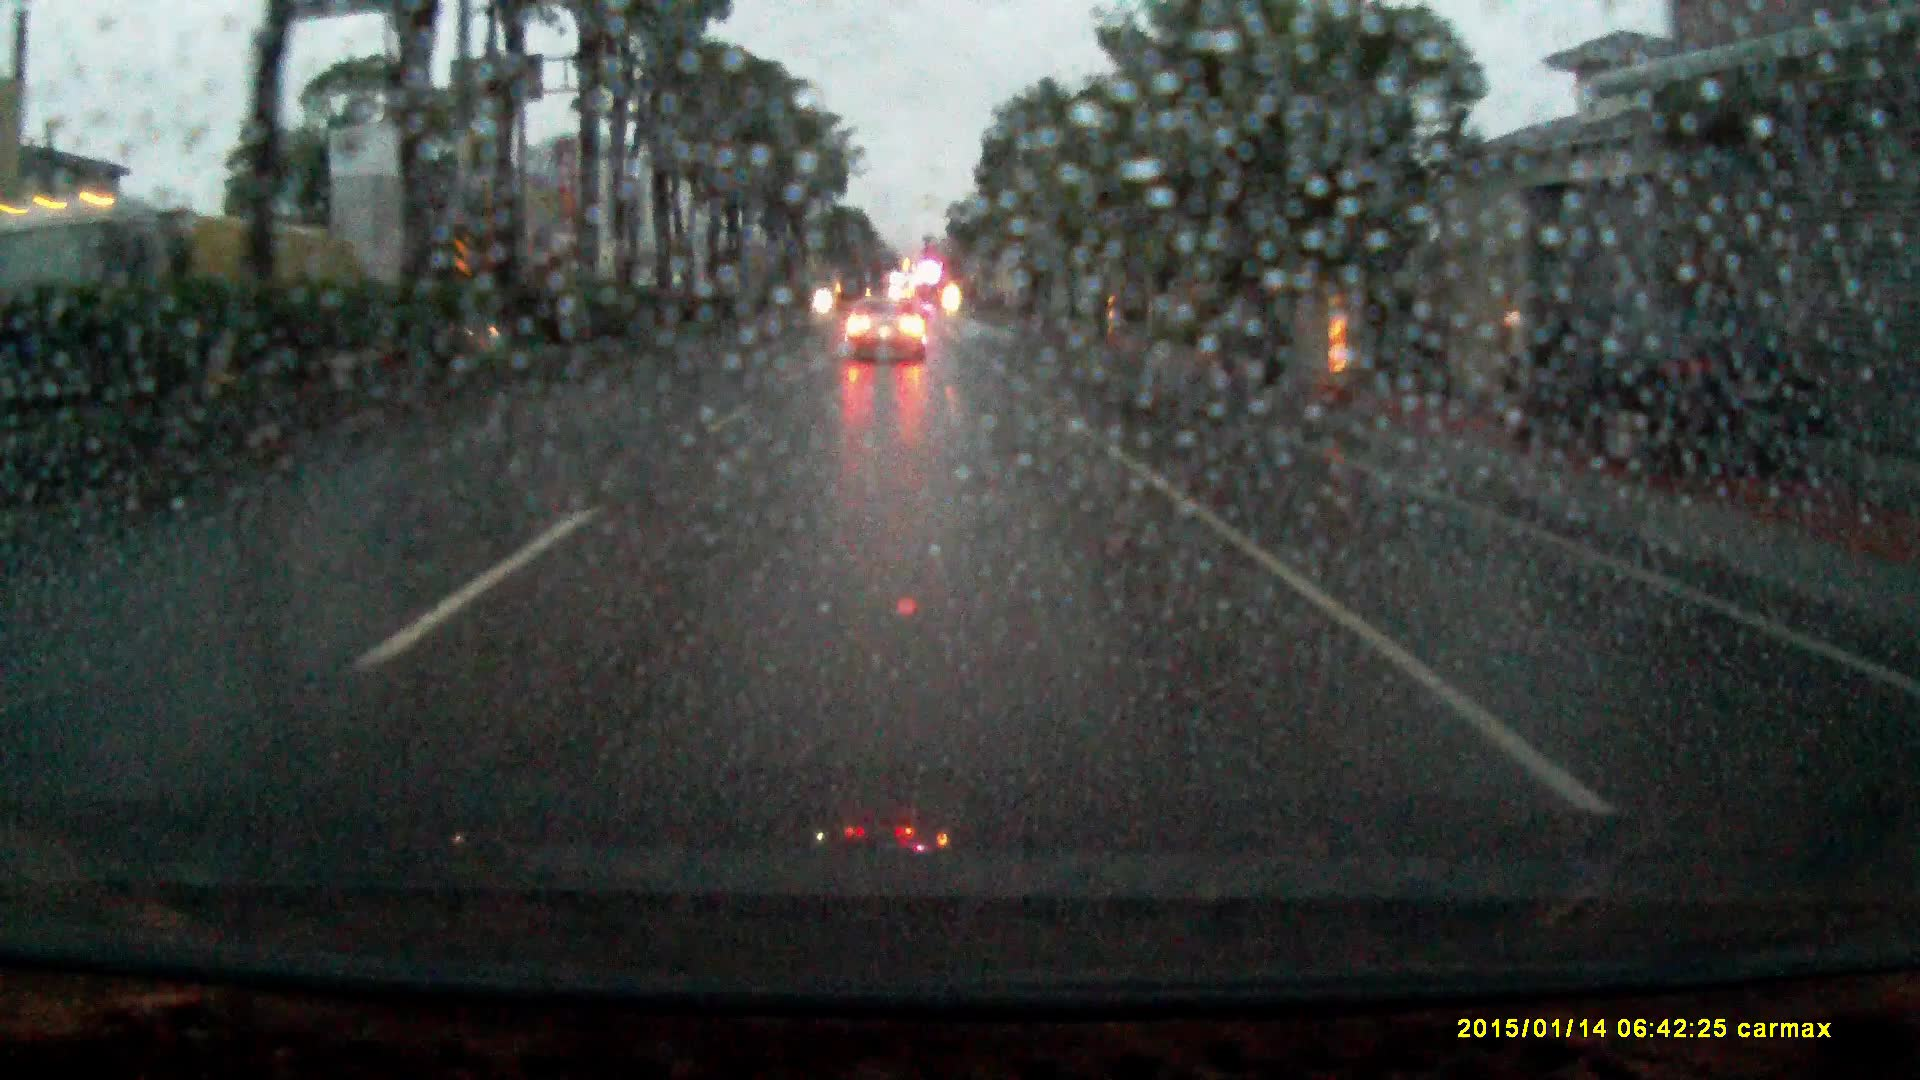vehicle: (1489, 298, 1808, 483), (32, 206, 367, 377), (843, 295, 928, 371)
